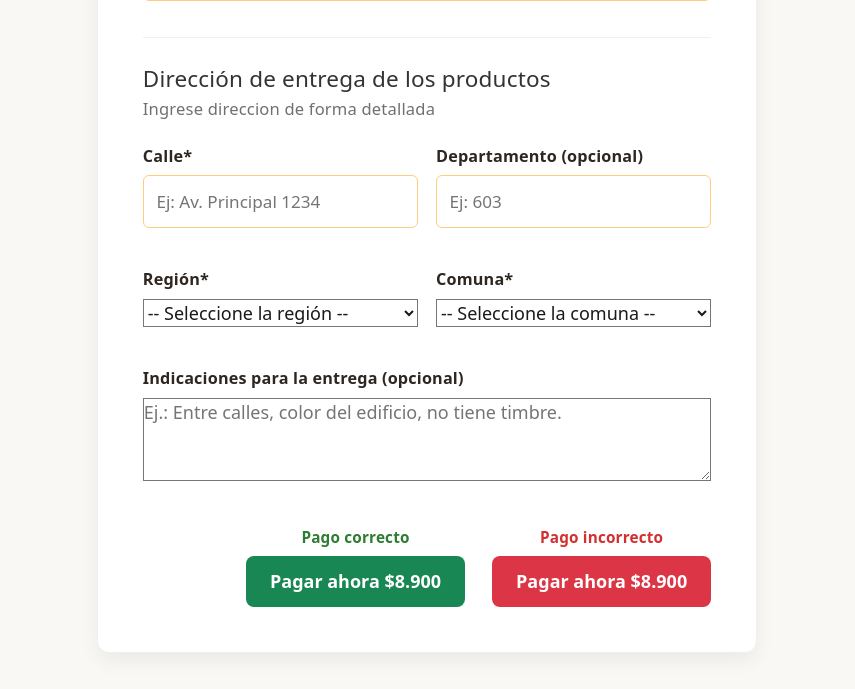
Test: Vista de Comprar (Checkout) › Debe mostrar la pantalla de confirmación exitosa al hacer clic en Pago Correcto
(page scrolled)
Step 1. Click the button "Pagar ahora $8.900" below "Pago correcto" → (356, 582), box [246,556,465,607]
(page scrolled)
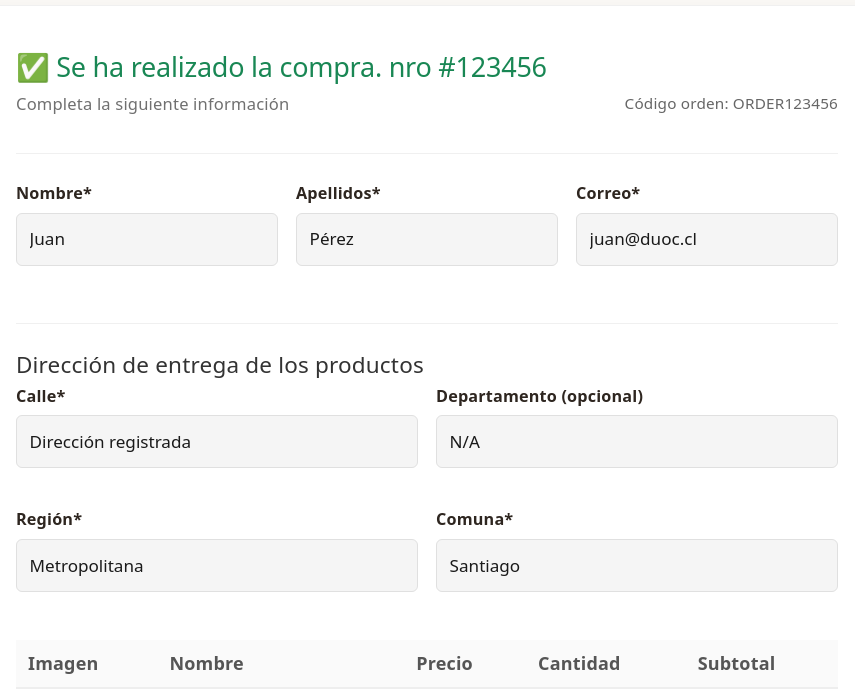
Check: the heading "✅ Se ha realizado la compra. nro #123456" is shown, box [16,48,547,85]
